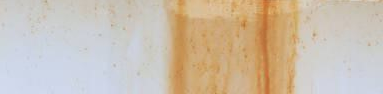Corrosion: (163, 1, 300, 94)
